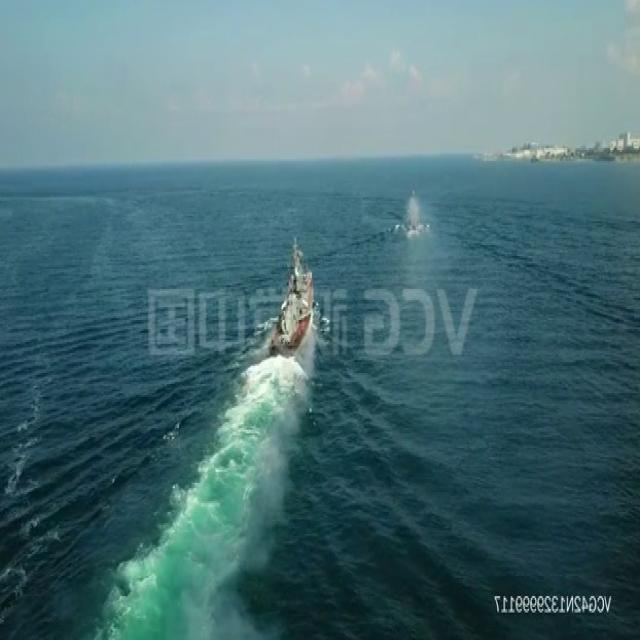navalvessels: (264, 232, 314, 358)
